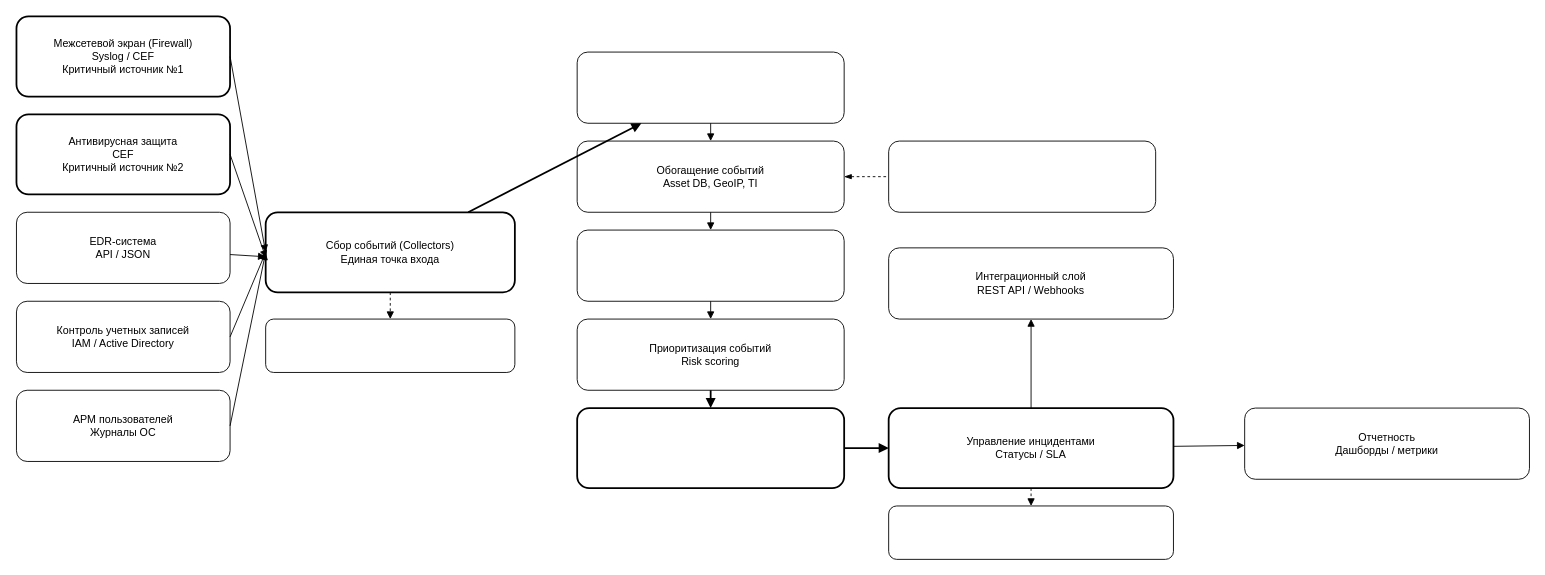
This 1545x575 diagram has some shape labels left out. Here are the shapes that lost their labels. From the top down, the box of each, then its label:
(576, 51, 844, 123): Нормализация событий Единая схема + TZ
(888, 140, 1156, 212): База активов (Asset DB)
(576, 229, 844, 301): Агрегация и дедупликация Временное окно T
(265, 318, 515, 372): Хранилище сырых событий (Архив / форензика)
(576, 407, 845, 489): Корреляция событий Формирование инцидентов
(888, 505, 1173, 559): Хранилище инцидентов
